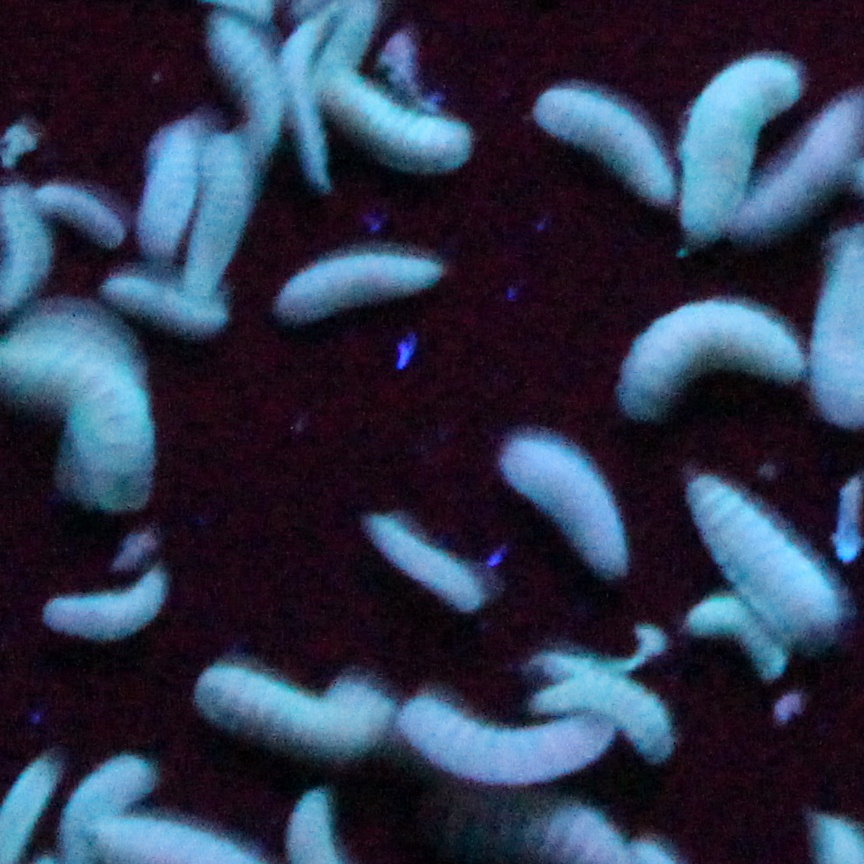larve: (686, 474, 844, 659), (680, 55, 802, 235), (614, 301, 802, 417), (400, 701, 613, 785), (502, 437, 627, 575), (318, 65, 471, 173), (534, 89, 672, 203), (193, 667, 371, 752), (531, 673, 672, 758), (368, 515, 482, 609), (206, 16, 278, 162), (281, 255, 442, 320), (196, 133, 252, 301), (280, 10, 329, 189), (44, 570, 164, 638), (688, 596, 785, 680), (140, 124, 197, 258), (103, 275, 222, 332), (34, 185, 126, 250), (327, 681, 398, 721)
